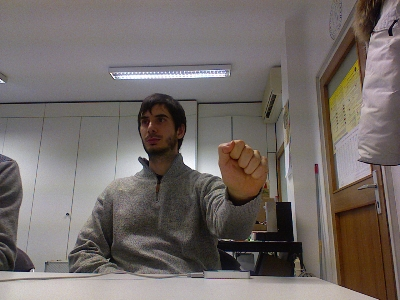石头: (216, 137, 268, 198)
